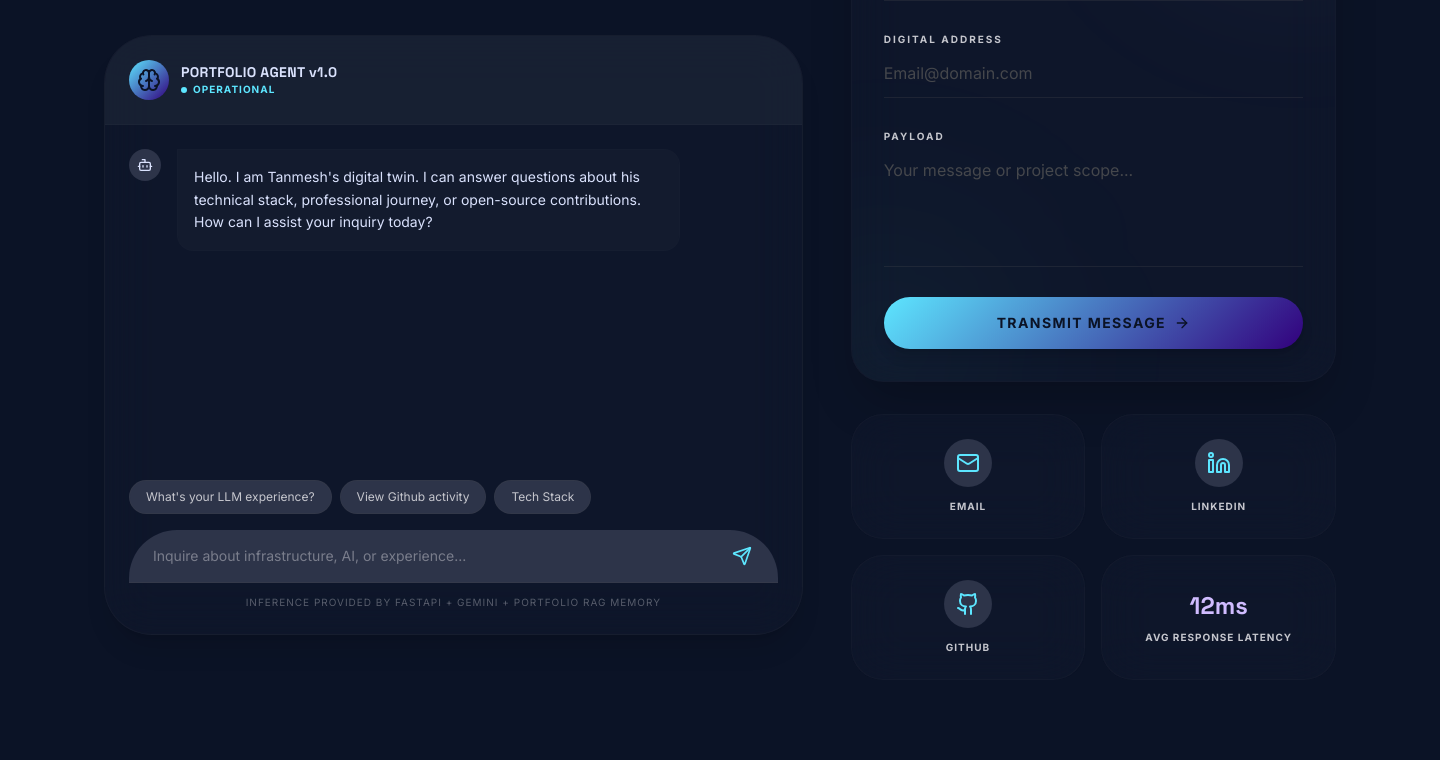
Test case: AssistantScreen › sends a chat message and displays the assistant reply
The width and height of the screenshot is (1440, 760).
(page scrolled)
Type "What is your tech stack?" into the field named "Chat message" at [453, 556], box 129,530 -> 778,583
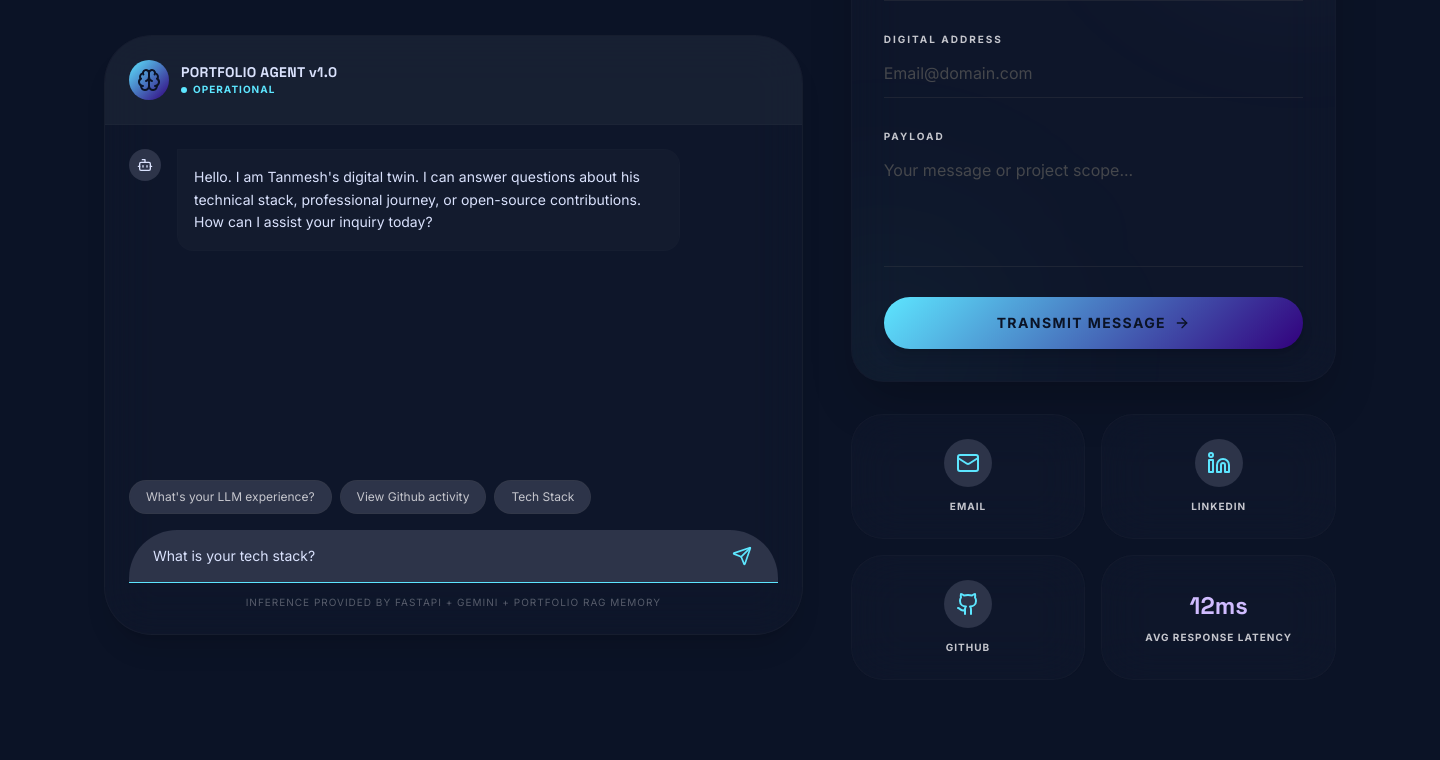
Click the button named "Send message" at [742, 556], box 722,536 -> 762,576
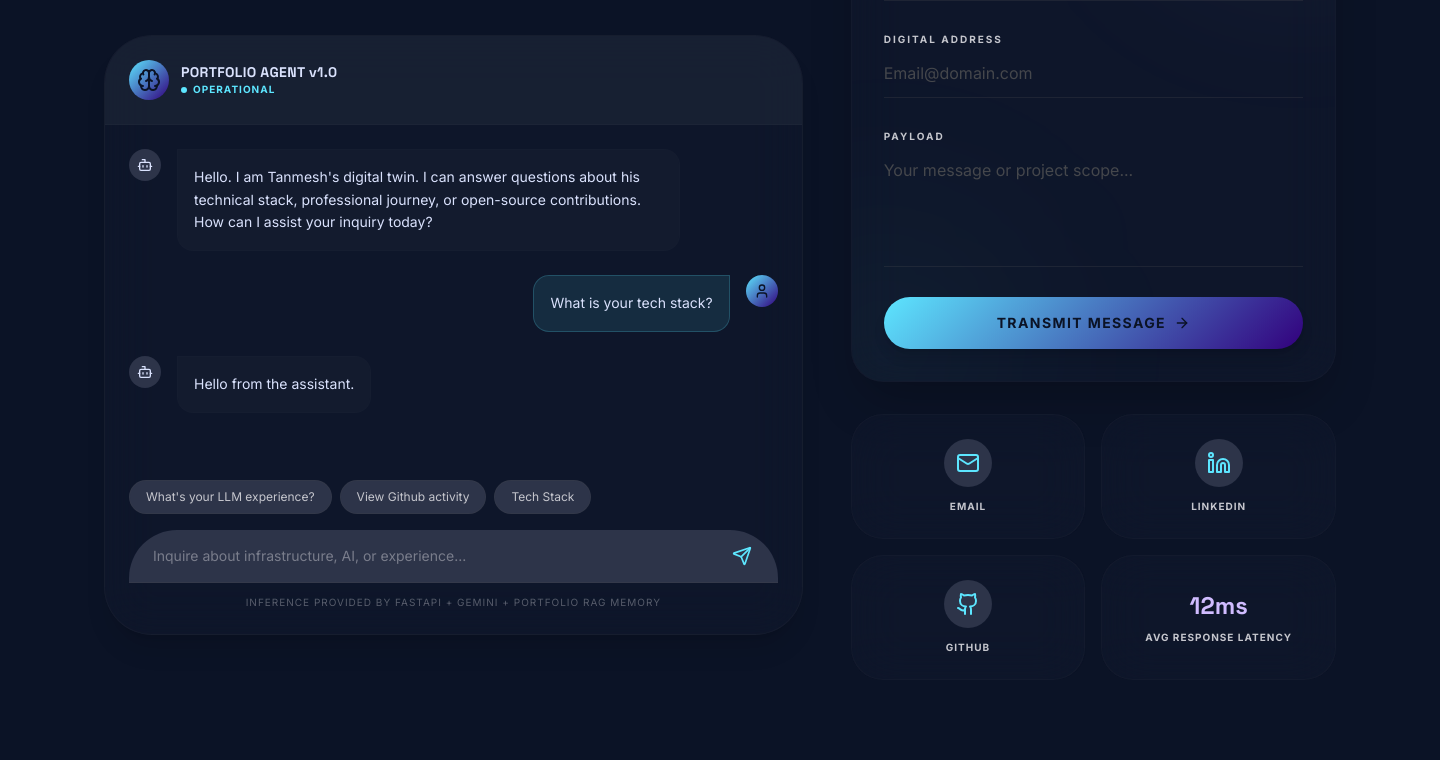
Expected: the text "What is your tech stack?" is shown, 550,292 -> 713,315
Expected: the text "Hello from the assistant." is shown, 194,373 -> 354,396
